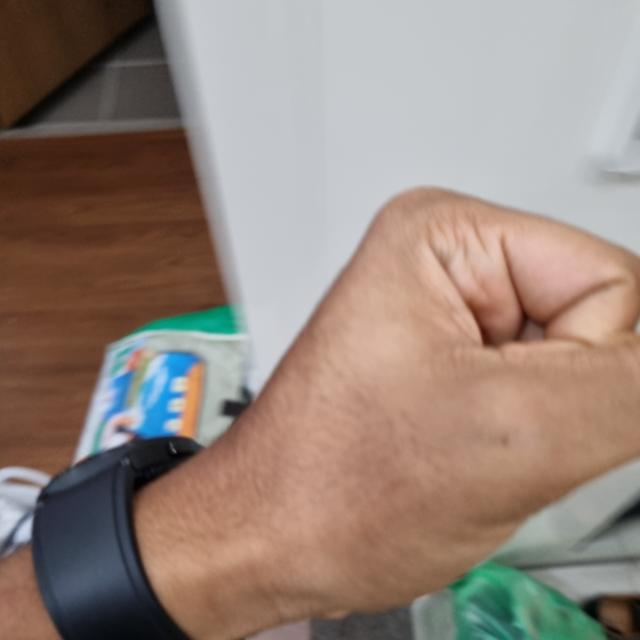Rock: (185, 188, 639, 617)
